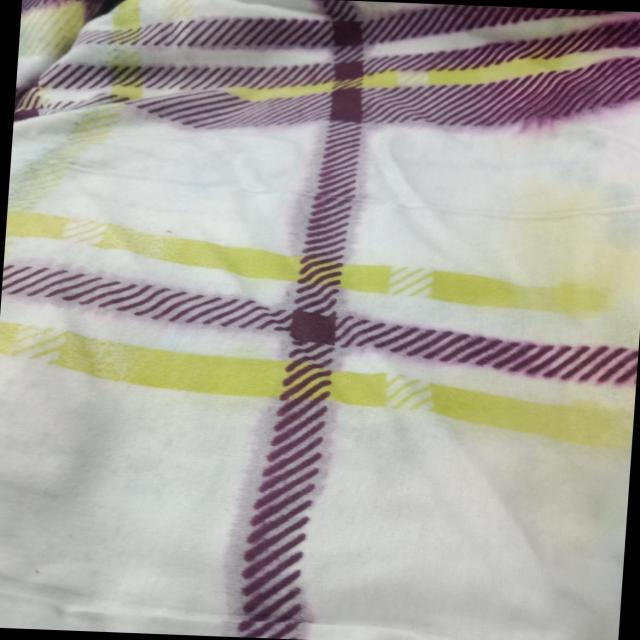baekra: (40, 1, 640, 422), (212, 411, 344, 640)
